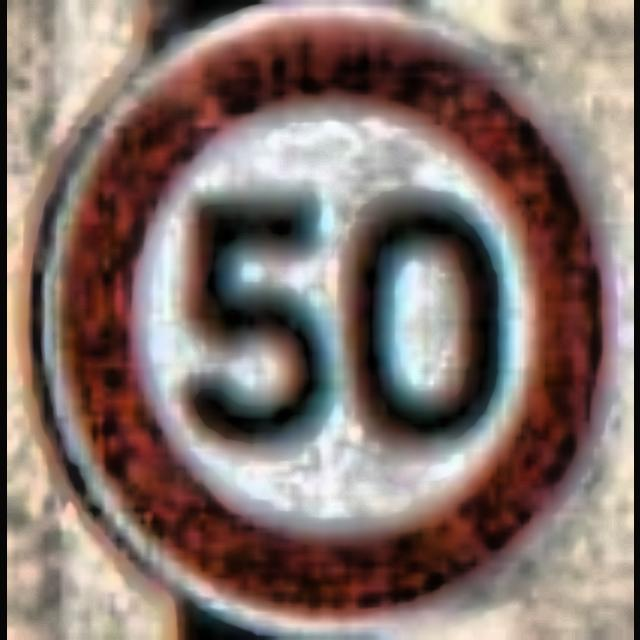speed_50: (6, 1, 634, 634)
